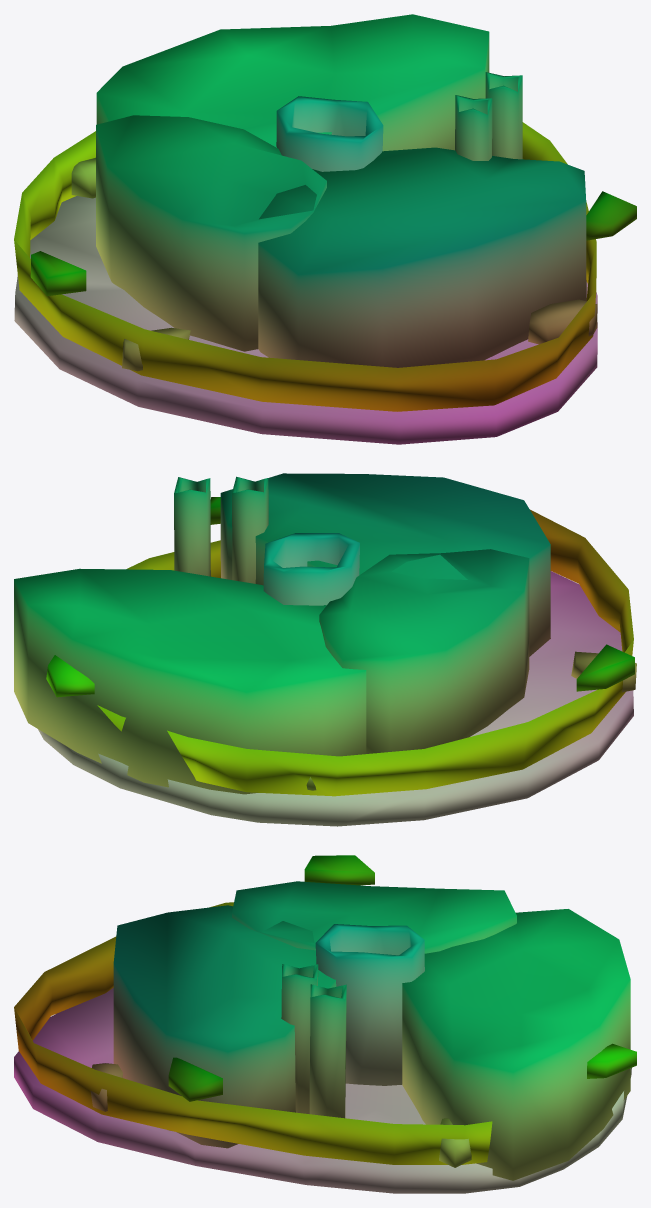
Rendered from upper_arm_rifle_0_LOD1.glb.
3 views of the same model, one above another, from view 1: azimuth 30°, elevation 25°; view 2: azimuth 150°, elevation 25°; view 3: azimuth 270°, elevation 25° (orthographic). The views are drawn at different scales.
Parts seen in each view (by area): view 1: upper_arm_rifle_0_LOD1; view 2: upper_arm_rifle_0_LOD1; view 3: upper_arm_rifle_0_LOD1.
Boxes of the visible parts, x1,y1,x2,y2 form: upper_arm_rifle_0_LOD1: (14,14,636,444); upper_arm_rifle_0_LOD1: (14,473,636,826); upper_arm_rifle_0_LOD1: (14,855,636,1193).
Bounding box in the file's own units: 0.0996 × 0.0317 × 0.1059.
